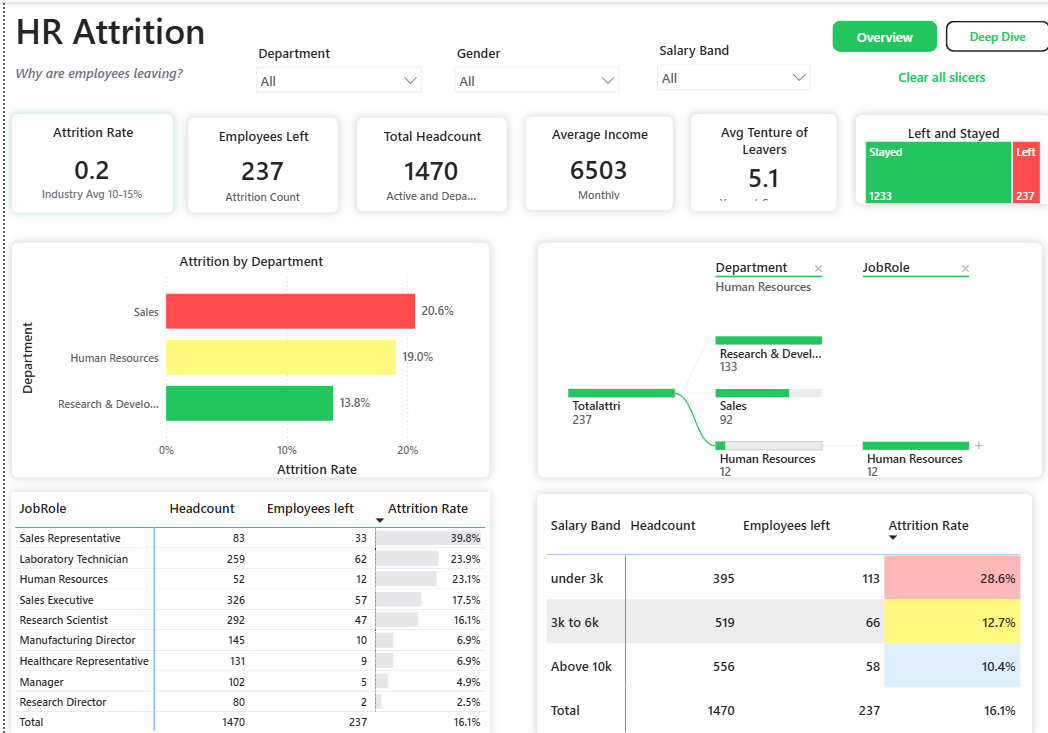

Layout of this report page (visuals, bound fields, positions):
{"tool":"powerbi","page":{"name":"Overview","canvas":[1280,900],"ordinal":0},"visuals":[{"type":"textbox","box":[7.6,0,269,91.7],"z":0},{"type":"textbox","box":[7.6,70.3,249.2,44.3],"z":1000},{"type":"slicer","fields":{"Values":["HR_dataset.Department"]},"box":[296.5,45.9,223.2,67.3],"z":2000},{"type":"slicer","fields":{"Values":["HR_dataset.Gender"]},"box":[539.6,45.9,221.6,67.3],"z":3000},{"type":"slicer","fields":{"Values":["HR_dataset.Salary Band"]},"box":[787.2,42.8,207.9,70.3],"z":4000},{"type":"actionButton","box":[1045.5,65.7,200.2,50.4],"z":5000},{"type":"pageNavigator","box":[1011.9,22.9,267.5,38.2],"z":6000},{"type":"cardVisual","title":"Attrition Rate","fields":{"Data":["HR_dataset.Attrition Rate"]},"box":[7.6,137.6,198.7,125.3],"z":7000},{"type":"cardVisual","title":"Avg Tenture of Leavers","fields":{"Data":["HR_dataset.Avg Tenure of Leavers"]},"box":[831.5,136,180.4,120.8],"z":8000},{"type":"cardVisual","title":"Average Income","fields":{"Data":["HR_dataset.Avg Monthly Income"]},"box":[630.8,139.1,181.9,116.2],"z":9000},{"type":"cardVisual","title":"Employees Left","fields":{"Data":["HR_dataset.Employees left"]},"box":[223.2,140.6,185,117.7],"z":10000},{"type":"cardVisual","title":"Total Headcount","fields":{"Data":["HR_dataset.Headcount"]},"box":[421.9,140.6,185,116.2],"z":11000},{"type":"treemap","fields":{"Values":["HR_dataset.Employees left","HR_dataset.Employees stayed"]},"box":[1039.4,137.6,240,110.1],"z":12000},{"type":"barChart","title":"Attrition by Department","fields":{"Category":["HR_dataset.Department"],"Y":["HR_dataset.Attrition Rate"]},"box":[7.6,293.5,585.4,288.9],"z":13000},{"type":"decompositionTreeVisual","fields":{"ExplainBy":["HR_dataset.Department","HR_dataset.JobRole","HR_dataset.Salary Band"],"Analyze":["HR_dataset.Totalattri"]},"box":[651.2,293.5,617.5,288.9],"z":14000},{"type":"pivotTable","fields":{"Rows":["HR_dataset.JobRole"],"Values":["HR_dataset.Headcount","HR_dataset.Employees left","HR_dataset.Attrition Rate"]},"box":[7.6,599.2,585.4,301.1],"z":15000},{"type":"pivotTable","fields":{"Rows":["HR_dataset.Salary Band"],"Values":["HR_dataset.Headcount","HR_dataset.Employees left","HR_dataset.Attrition Rate"]},"box":[649.6,600.7,606.8,299.6],"z":16000}]}

Visuals, with their boxes in screenshot pixels (x1, y1, x2, y2), scaled from the page's 1280x900 canvas onto the 1048x733 screenshot:
textbox: bbox=[6, 0, 226, 75]
textbox: bbox=[6, 57, 210, 93]
slicer - HR_dataset.Department: bbox=[243, 37, 426, 92]
slicer - HR_dataset.Gender: bbox=[442, 37, 623, 92]
slicer - HR_dataset.Salary Band: bbox=[645, 35, 815, 92]
actionButton: bbox=[856, 54, 1020, 95]
pageNavigator: bbox=[828, 19, 1047, 50]
"Attrition Rate" cardVisual: bbox=[6, 112, 169, 214]
"Avg Tenture of Leavers" cardVisual: bbox=[681, 111, 828, 209]
"Average Income" cardVisual: bbox=[516, 113, 665, 208]
"Employees Left" cardVisual: bbox=[183, 115, 334, 210]
"Total Headcount" cardVisual: bbox=[345, 115, 497, 209]
treemap - HR_dataset.Employees left x HR_dataset.Employees stayed: bbox=[851, 112, 1047, 202]
"Attrition by Department" barChart: bbox=[6, 239, 486, 474]
decompositionTreeVisual - HR_dataset.Department x HR_dataset.JobRole: bbox=[533, 239, 1039, 474]
pivotTable - HR_dataset.JobRole x HR_dataset.Headcount: bbox=[6, 488, 486, 732]
pivotTable - HR_dataset.Salary Band x HR_dataset.Headcount: bbox=[532, 489, 1029, 732]
